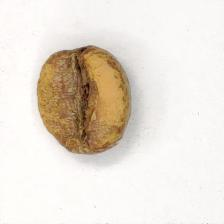NG: (42, 47, 118, 150)
